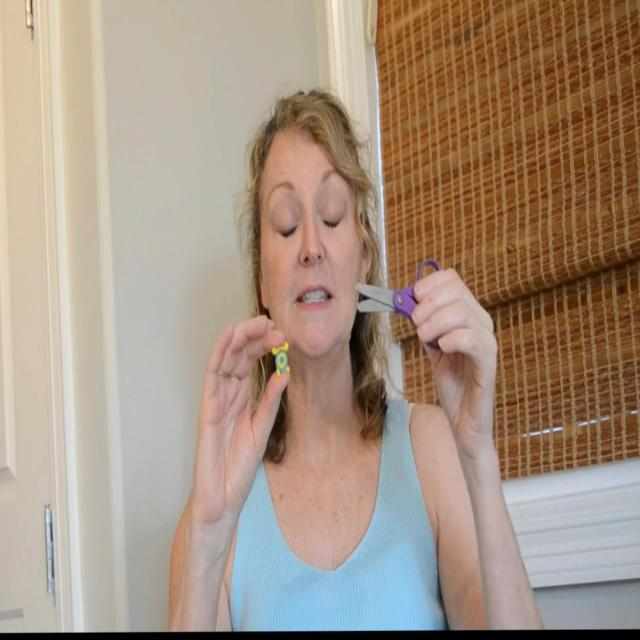scissor: (354, 256, 442, 352)
